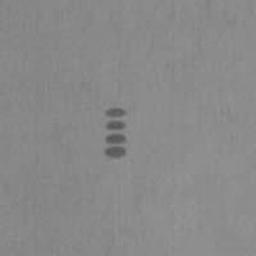Oil spot: (105, 108, 126, 158)
